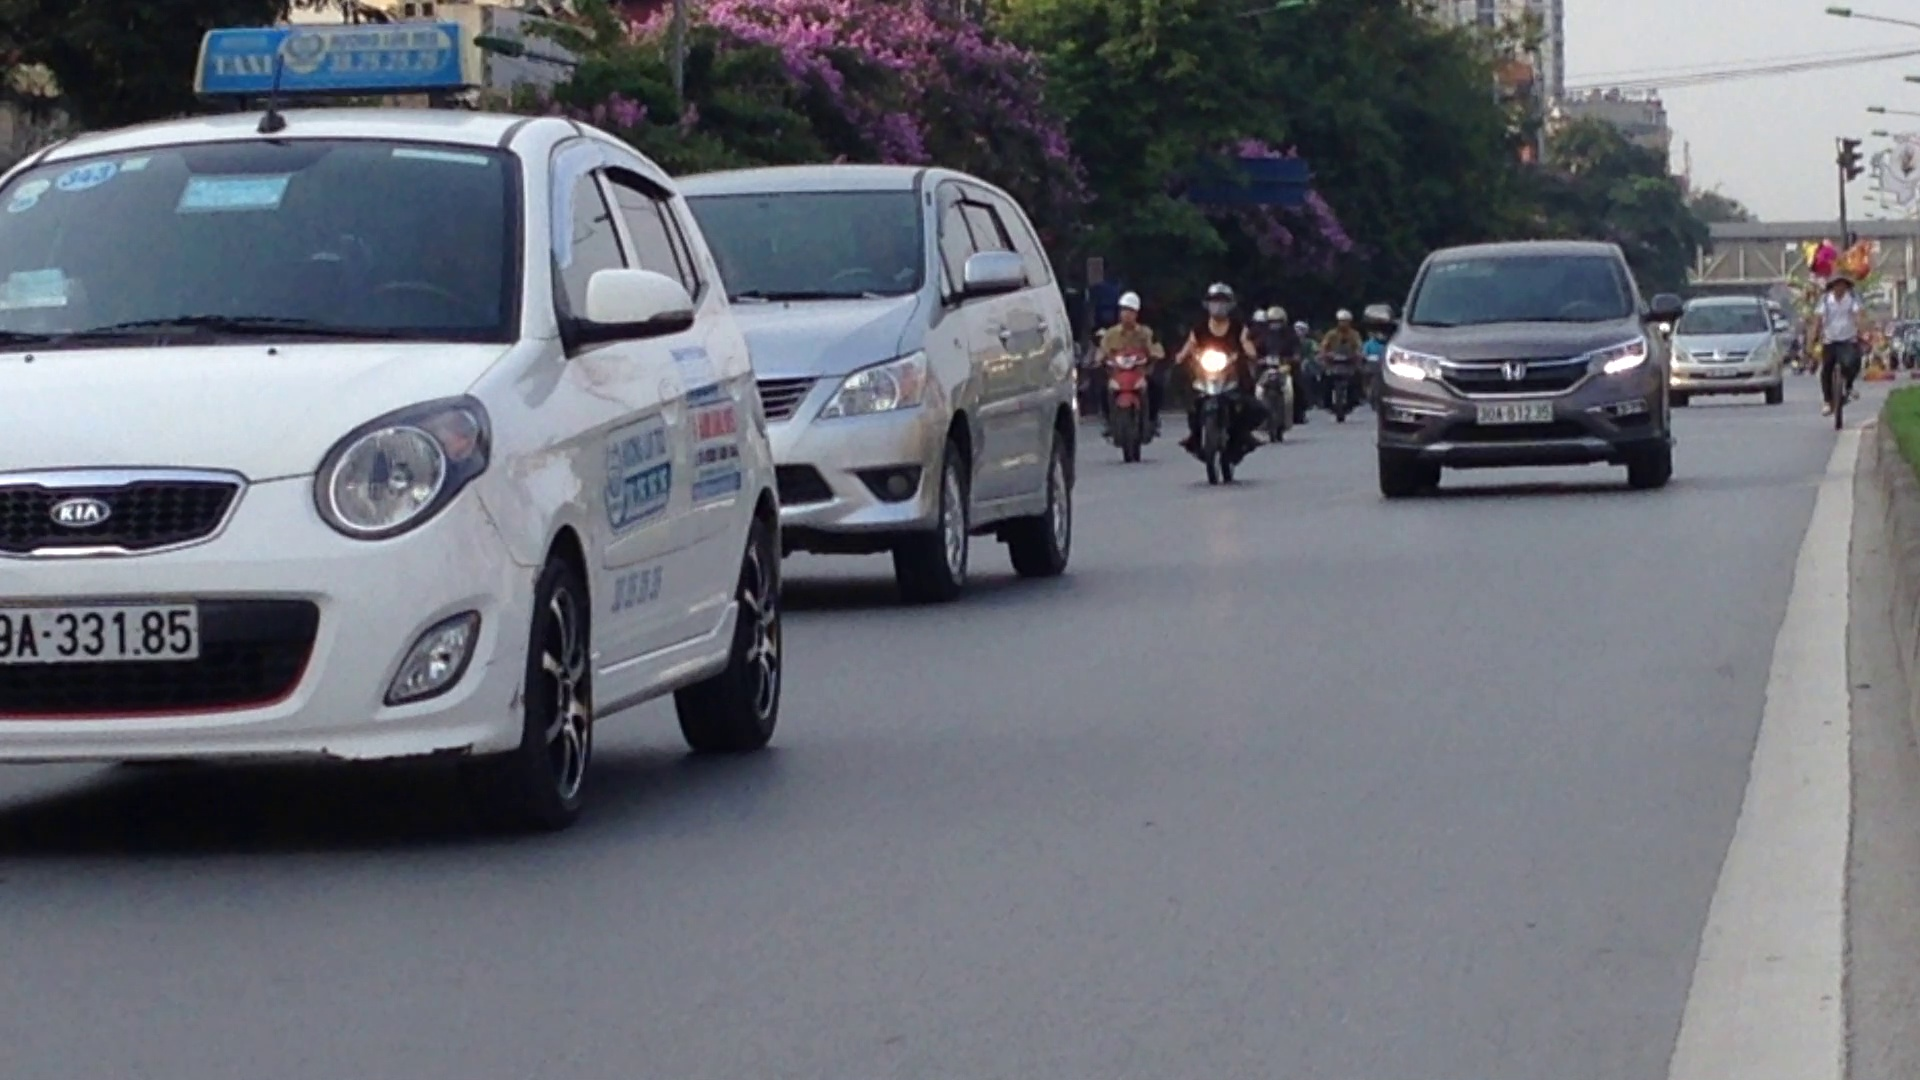vehicle-plate: (2, 596, 201, 664), (1472, 397, 1556, 425)
